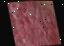plaque psoriasis: (6, 0, 60, 46)
